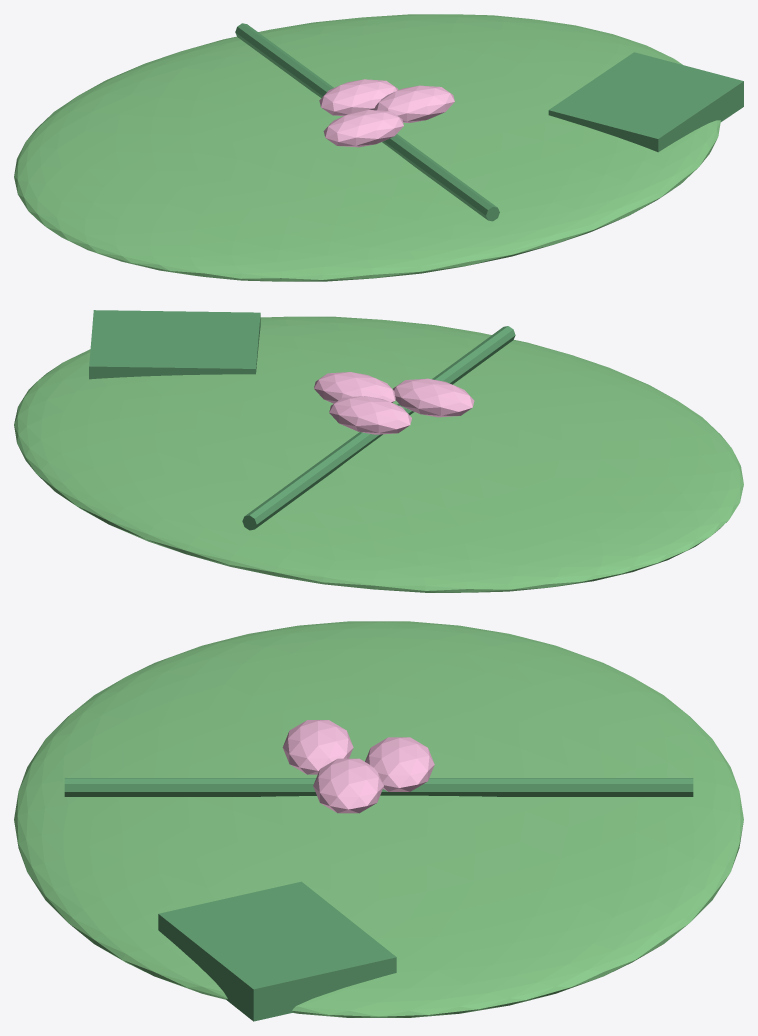
File: lily_pad_platform_v1.glb
3 views of the same model, one above another, from view 1: azimuth 30°, elevation 25°; view 2: azimuth 150°, elevation 25°; view 3: azimuth 270°, elevation 25° (orthographic). The views are drawn at different scales.
Visible parts, largest first — view 1: lily_pad_body, lily_pad_notch_visual, lily_pad_center_vein, tiny_flower_petal_1, tiny_flower_petal_0, tiny_flower_petal_2; view 2: lily_pad_body, lily_pad_notch_visual, lily_pad_center_vein, tiny_flower_petal_2, tiny_flower_petal_1, tiny_flower_petal_0; view 3: lily_pad_body, lily_pad_notch_visual, lily_pad_center_vein, tiny_flower_petal_0, tiny_flower_petal_2, tiny_flower_petal_1.
Part boxes in pixels (x1,y1,x2,y2): lily_pad_body: (14,14,720,281); lily_pad_notch_visual: (548,52,743,152); lily_pad_center_vein: (235,23,499,221); tiny_flower_petal_1: (323,110,403,147); tiny_flower_petal_0: (375,85,454,122); tiny_flower_petal_2: (319,79,398,115); lily_pad_body: (14,316,743,592); lily_pad_notch_visual: (89,310,260,379); lily_pad_center_vein: (242,326,515,530); tiny_flower_petal_2: (329,396,411,434); tiny_flower_petal_1: (393,378,474,417); tiny_flower_petal_0: (314,372,395,403); lily_pad_body: (14,621,743,1017); lily_pad_notch_visual: (158,881,396,1021); lily_pad_center_vein: (64,778,693,796); tiny_flower_petal_0: (313,758,383,813); tiny_flower_petal_2: (365,737,434,791); tiny_flower_petal_1: (282,720,353,774).
Bounding box in the file's own units: 0.9259 × 0.108 × 0.72.
